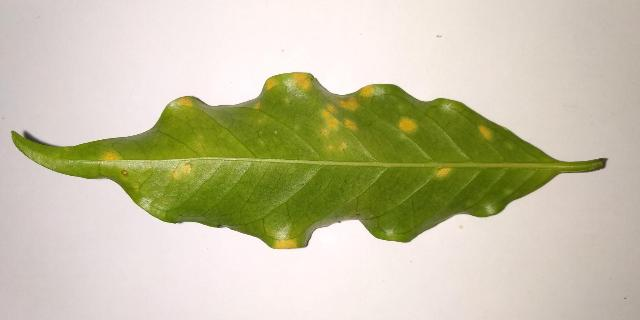miner: (319, 105, 338, 135), (170, 162, 194, 180), (290, 72, 311, 91), (273, 238, 298, 249), (338, 97, 358, 110), (399, 118, 416, 131), (326, 141, 347, 151), (101, 151, 121, 161), (264, 76, 277, 91), (479, 125, 491, 139), (178, 97, 193, 108), (343, 119, 356, 130), (360, 85, 373, 96), (436, 168, 450, 176), (254, 102, 261, 109)
